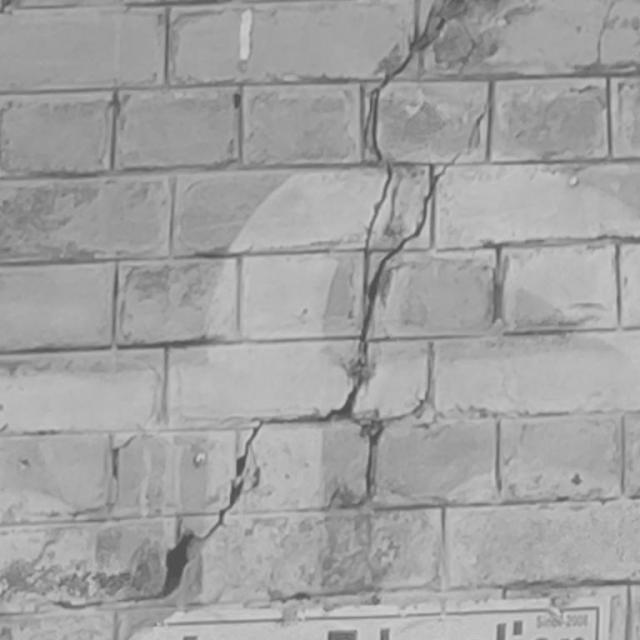crack: (49, 1, 494, 611)
